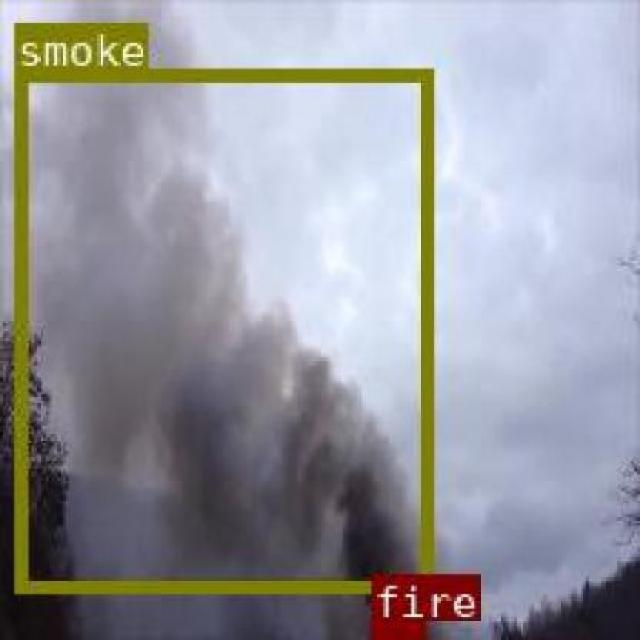Fire: (371, 618, 420, 634)
Smoke: (13, 66, 432, 591)
